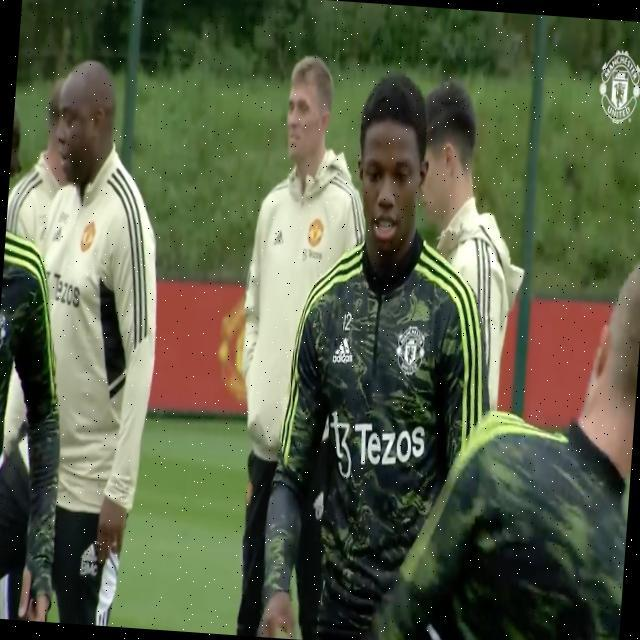Adidas: (333, 336, 357, 366), (81, 540, 102, 563), (271, 225, 287, 250), (50, 221, 64, 244)
